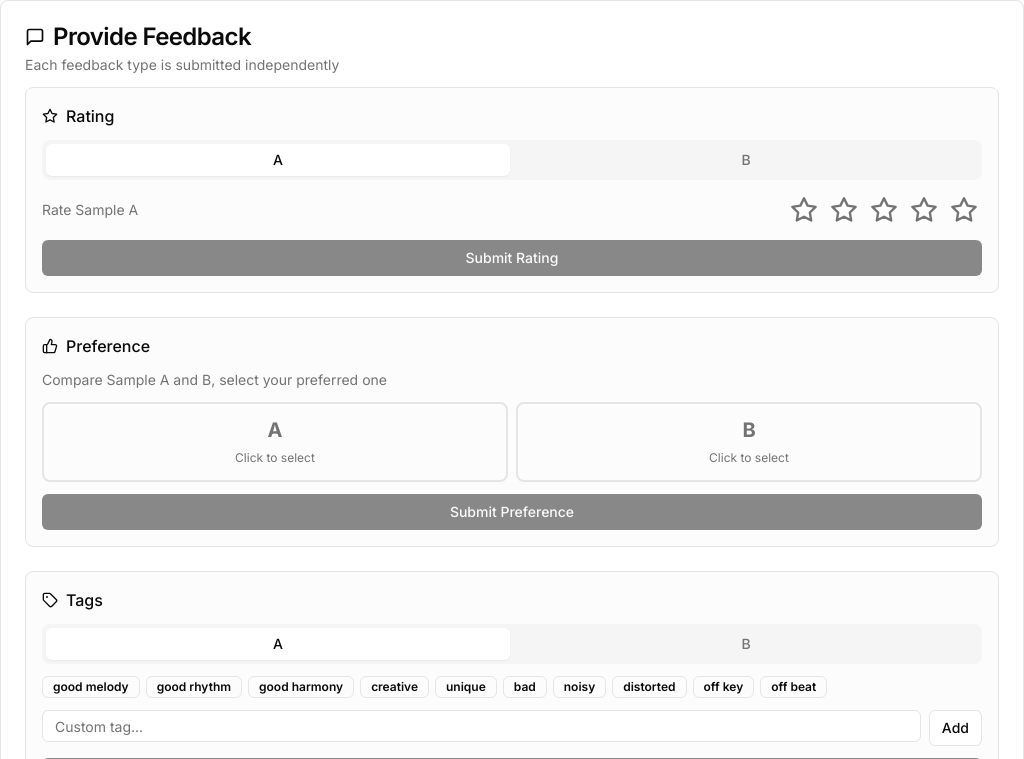
Test: FeedbackPanel › allows selecting preferred sample
Expected: the text "Click to select" is shown 2 times, [235,450,315,465]; [709,450,789,465]
# Click on sample A
Click the button "A Click to select" at x=275, y=442, box [42,402,508,482]
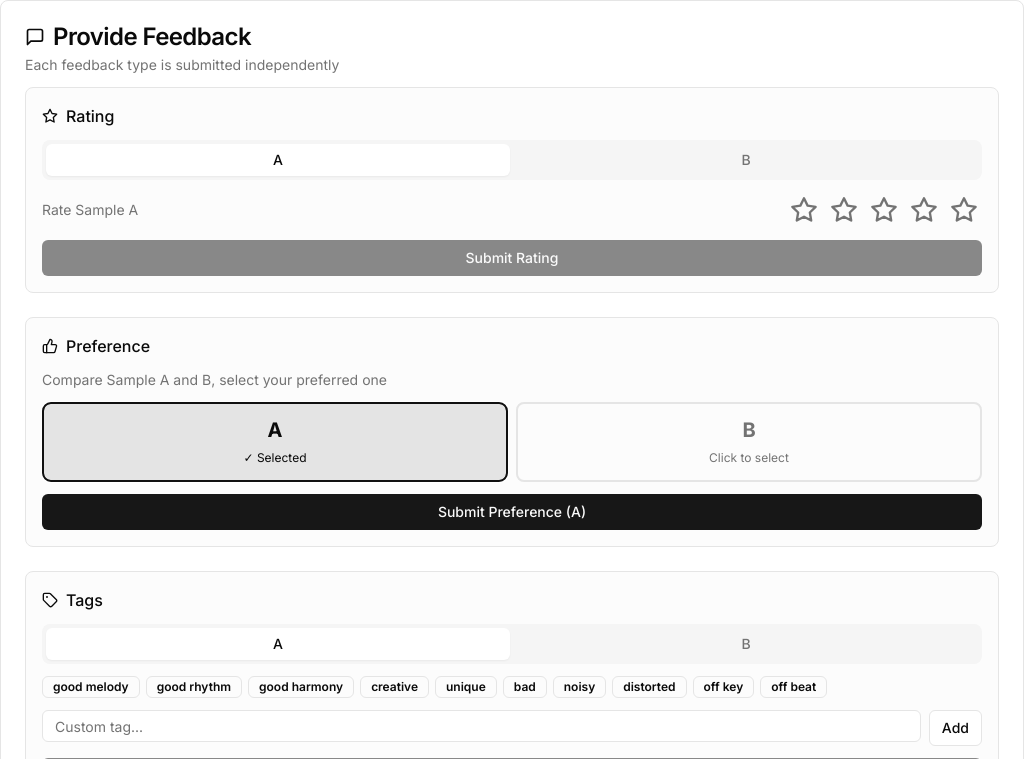
Expected: the text "✓ Selected" is shown, [244,450,306,465]
